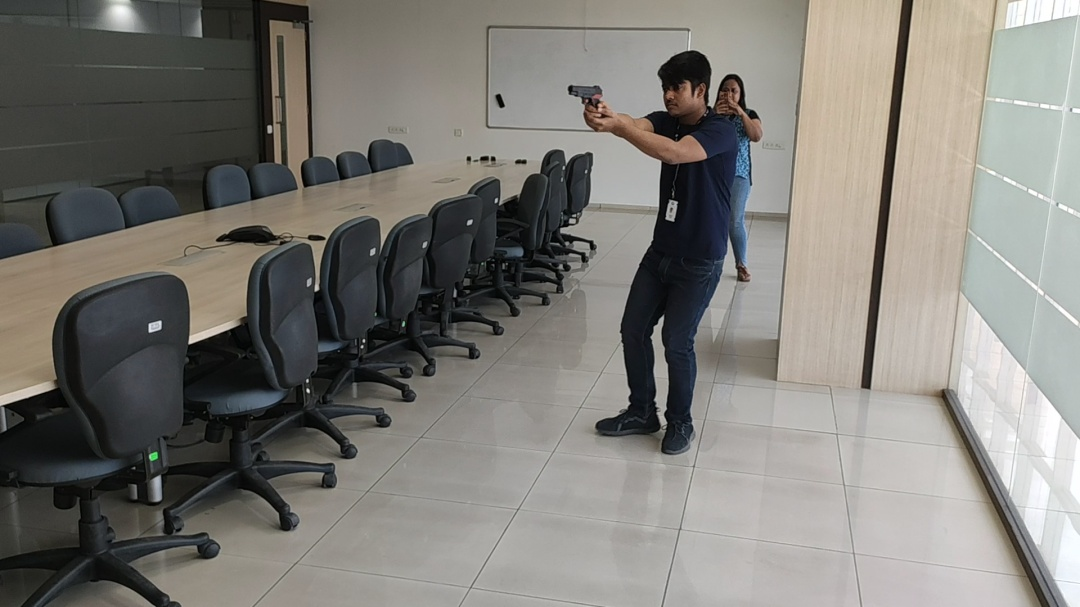gun: (565, 80, 606, 107)
